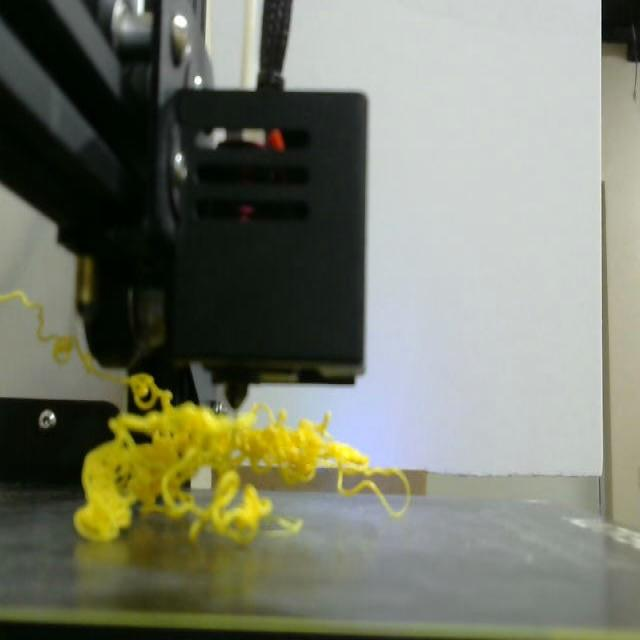spaghetti: (0, 292, 411, 543)
